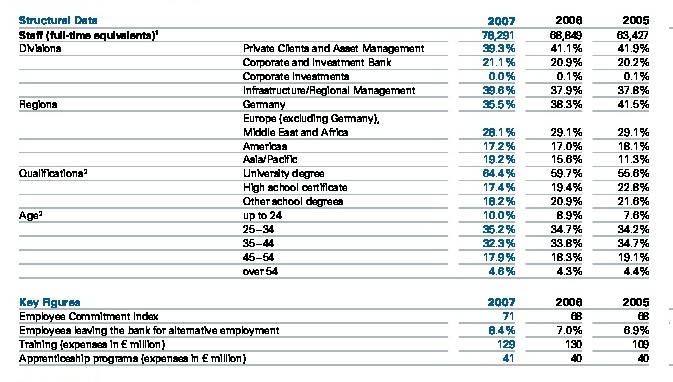table: (0, 0, 673, 382)
